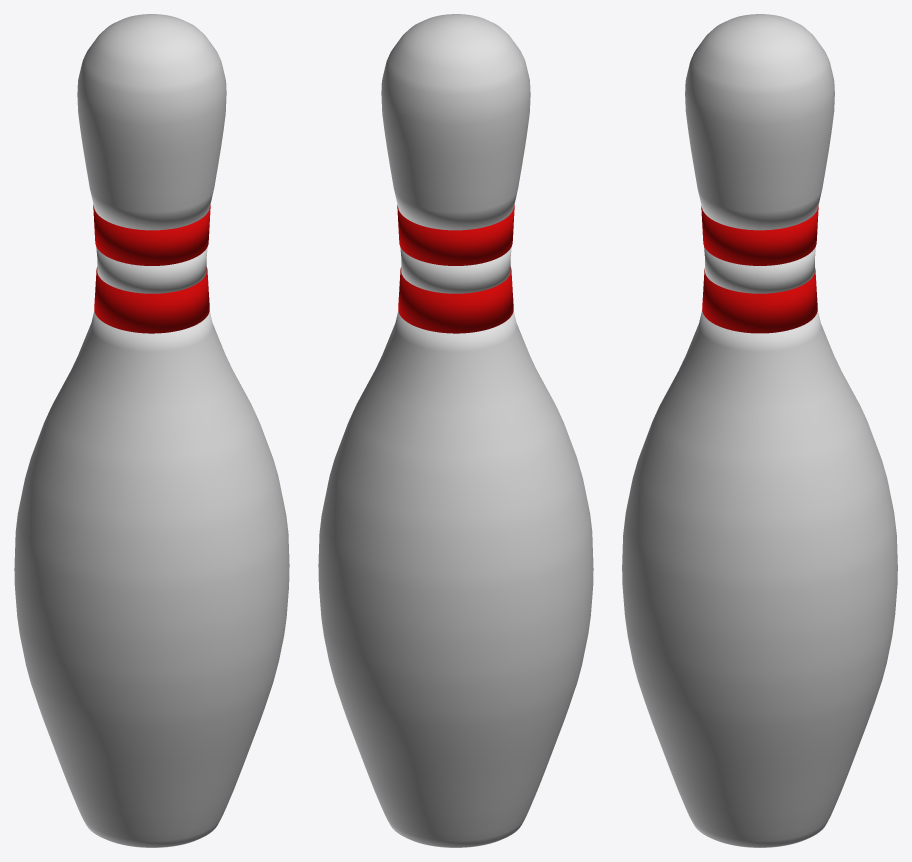
Rendered from Pin.glb.
The picture shows the model from 3 angles, left to right: view 1: azimuth 30°, elevation 25°; view 2: azimuth 150°, elevation 25°; view 3: azimuth 270°, elevation 25°; orthographic projection.
Visible parts, largest first — view 1: pin; view 2: pin; view 3: pin.
Part boxes in pixels (bbox=[...]): pin: bbox=[14, 14, 289, 847]; pin: bbox=[318, 14, 593, 847]; pin: bbox=[622, 14, 897, 847].
Size of the model in its own units: 0.6486 by 2.08 by 0.6499.
